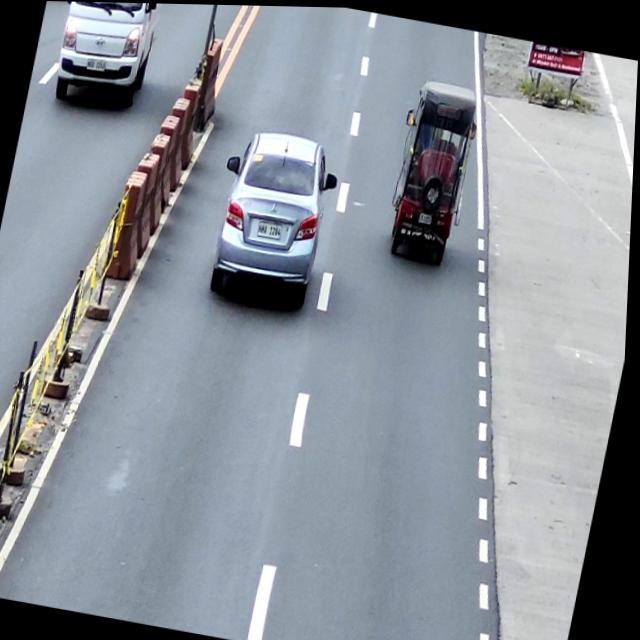Car: (203, 121, 346, 309), (43, 1, 168, 115)
E-bike: (380, 74, 488, 267)
License-Plate: (258, 219, 286, 240), (85, 56, 108, 73), (418, 208, 436, 225)
